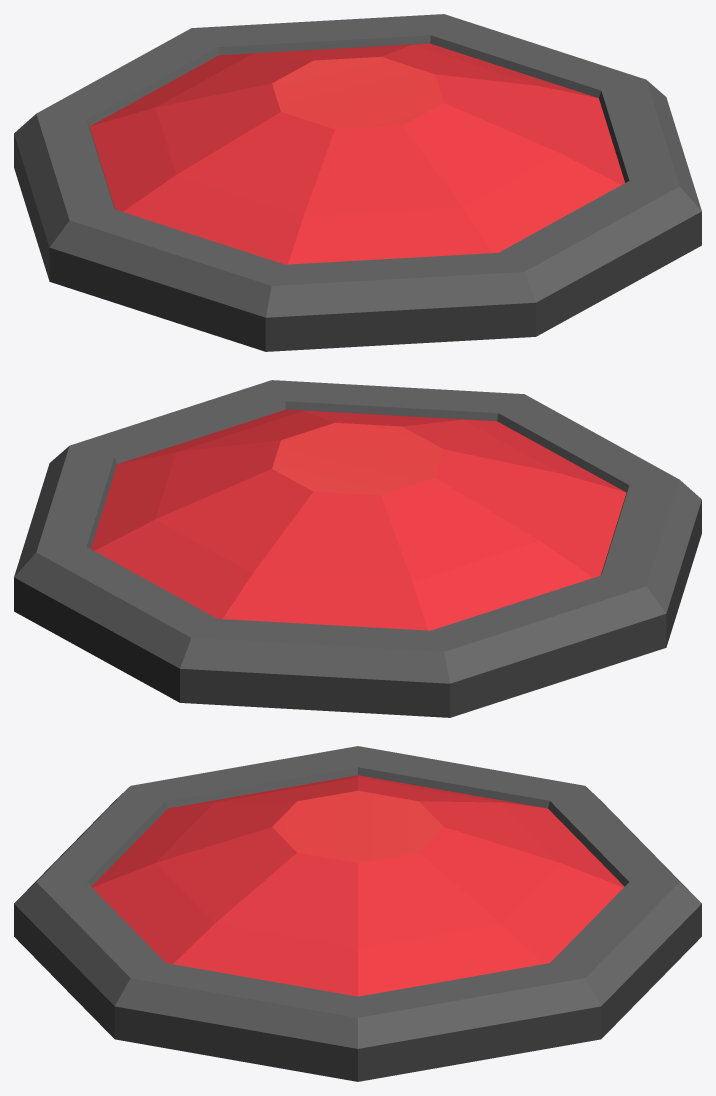
File: HAL9000_01.glb
3 views of the same model, one above another, from view 1: azimuth 30°, elevation 25°; view 2: azimuth 150°, elevation 25°; view 3: azimuth 270°, elevation 25° (orthographic). The views are drawn at different scales.
Visible parts, largest first — view 1: HAL9000_01; view 2: HAL9000_01; view 3: HAL9000_01.
Boxes of the visible parts, x1,y1,x2,y2 form: HAL9000_01: [14, 14, 701, 351]; HAL9000_01: [14, 380, 701, 717]; HAL9000_01: [14, 746, 701, 1081].
Size of what is drawn, in the model's own units: 0.7162 by 0.1258 by 0.7162.
1 material, 1 textured.
